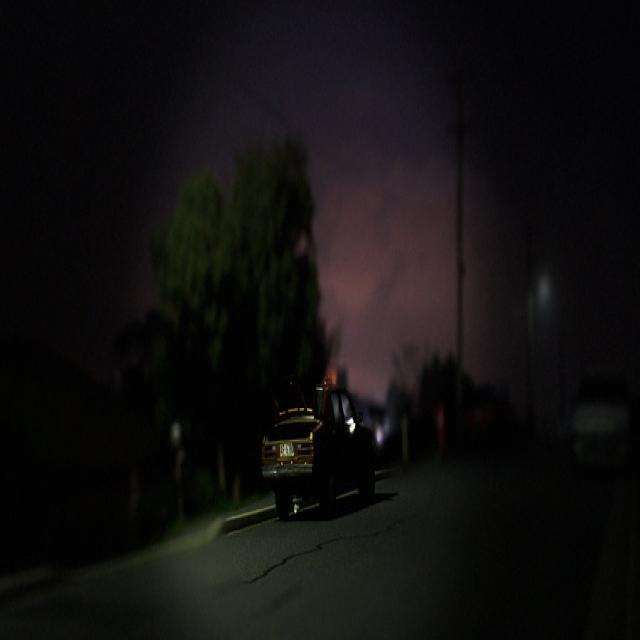car: (256, 362, 380, 522), (571, 354, 636, 492)
